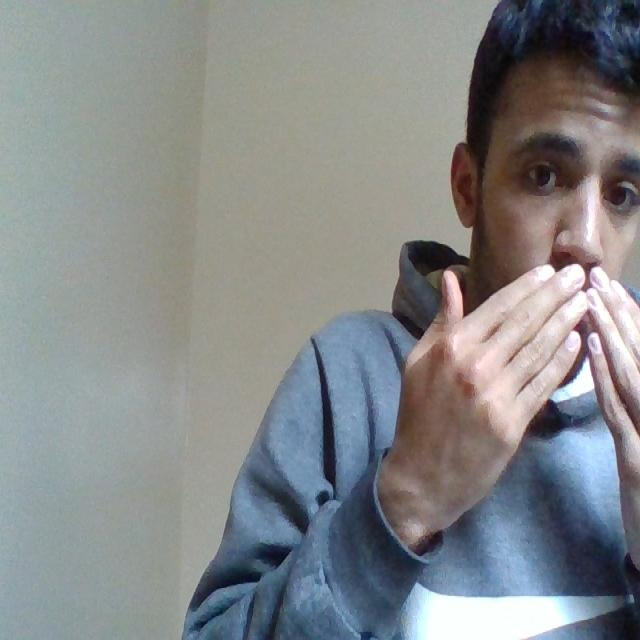Thanks: (368, 256, 639, 568)
